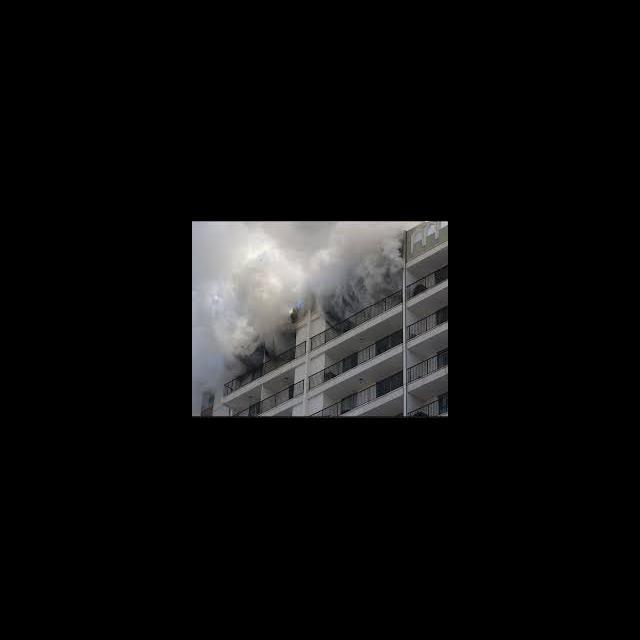Smoke: (192, 222, 413, 371)
